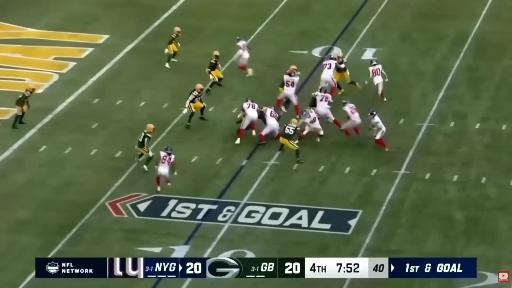Helmet: (192, 85, 205, 92), (147, 124, 155, 135), (173, 27, 182, 35), (165, 146, 173, 154), (320, 86, 328, 94), (214, 51, 221, 59), (342, 99, 350, 106), (335, 54, 343, 61), (302, 111, 309, 118), (289, 118, 297, 124), (28, 86, 35, 92), (245, 99, 254, 103), (288, 66, 297, 70), (370, 110, 375, 117), (288, 71, 295, 76), (268, 106, 276, 110), (235, 37, 241, 42), (371, 61, 377, 66)
Jersey: (283, 74, 299, 93), (321, 58, 337, 77), (343, 104, 360, 120), (281, 124, 298, 140), (315, 92, 331, 109), (159, 152, 174, 169), (303, 110, 318, 126), (137, 131, 151, 148), (369, 65, 382, 83), (243, 102, 258, 117), (370, 116, 385, 130), (265, 108, 278, 124), (188, 90, 202, 103), (336, 59, 347, 73), (16, 94, 28, 106), (208, 58, 219, 71), (168, 34, 179, 45), (237, 40, 247, 50)
Player: (310, 87, 341, 127), (277, 66, 299, 117), (334, 53, 361, 94), (279, 119, 303, 163), (235, 99, 258, 143), (183, 84, 206, 128), (12, 86, 35, 129), (156, 146, 177, 191), (136, 124, 154, 171), (369, 110, 388, 151), (299, 109, 323, 141), (320, 55, 339, 95), (259, 107, 279, 144), (369, 60, 387, 101), (206, 51, 223, 93), (341, 101, 361, 135), (165, 27, 181, 67), (237, 37, 253, 76), (287, 66, 300, 75)
